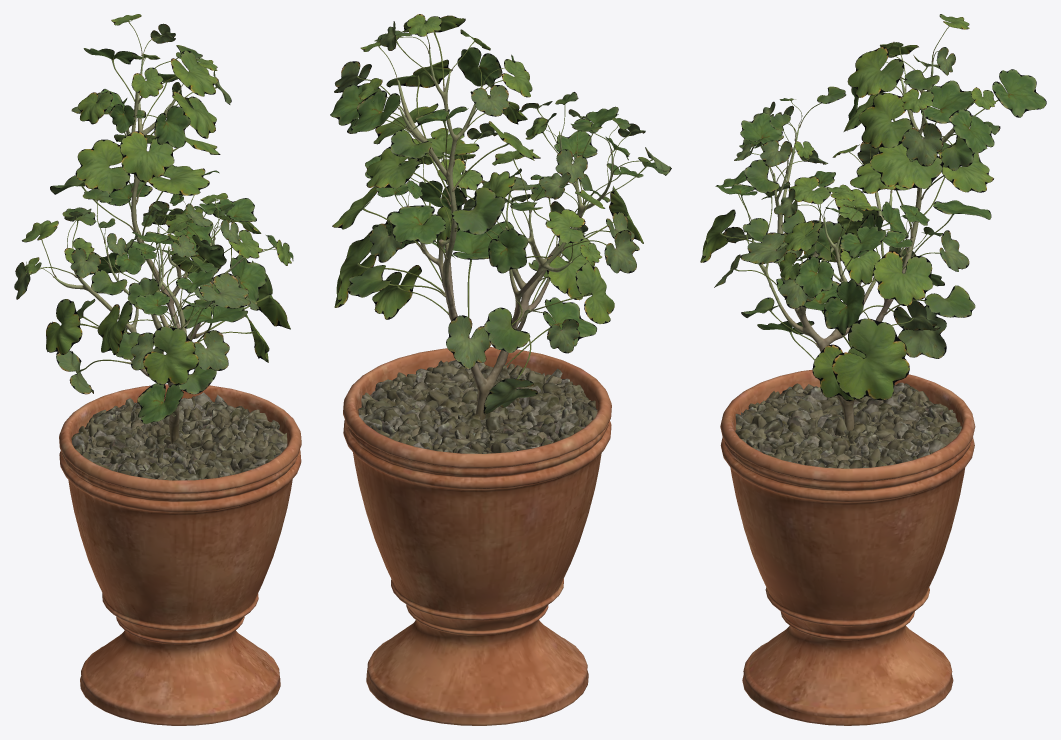
The model's file is potted_plant_01.glb.
The picture shows the model from 3 angles, left to right: view 1: azimuth 30°, elevation 25°; view 2: azimuth 150°, elevation 25°; view 3: azimuth 270°, elevation 25°; orthographic projection. The views are drawn at different scales.
Parts seen in each view (by area): view 1: potted_plant_01_stem, potted_plant_01_leaves; view 2: potted_plant_01_stem, potted_plant_01_leaves; view 3: potted_plant_01_stem, potted_plant_01_leaves.
Part boxes in pixels (left/top/right/bottom): potted_plant_01_stem: left=53, top=54, right=301, bottom=725; potted_plant_01_leaves: left=14, top=14, right=293, bottom=423; potted_plant_01_stem: left=343, top=49, right=612, bottom=725; potted_plant_01_leaves: left=330, top=14, right=671, bottom=414; potted_plant_01_stem: left=720, top=55, right=975, bottom=725; potted_plant_01_leaves: left=700, top=14, right=1046, bottom=401.
Size of the model in its own units: 0.5874 by 1.34 by 0.6336.
Materials: 2 (2 with a texture image).
